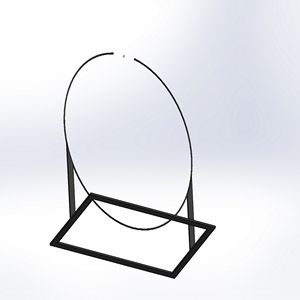circle: (47, 50, 217, 278)
